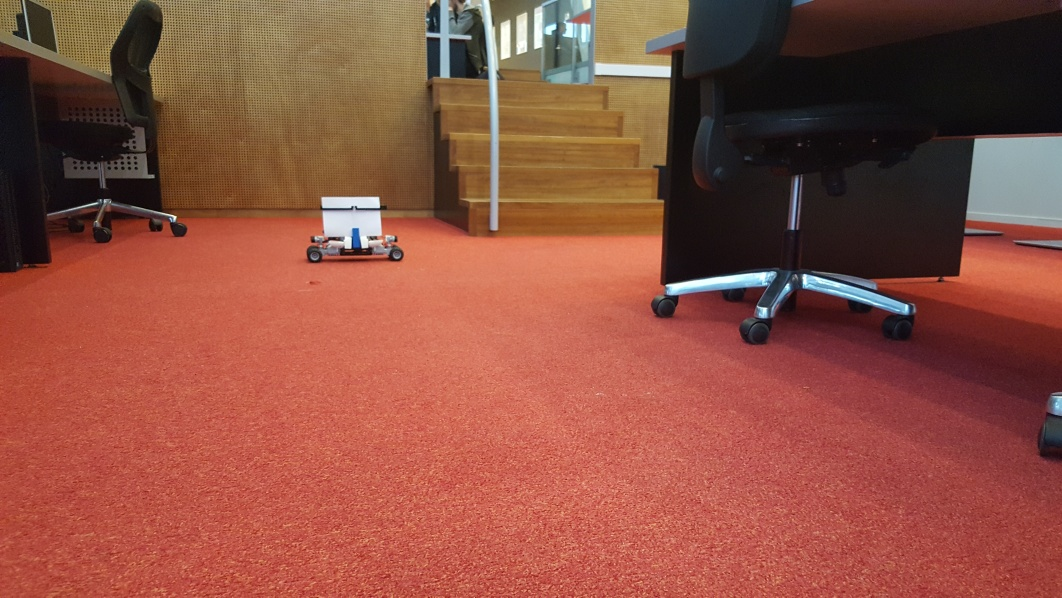car: (304, 194, 407, 266)
